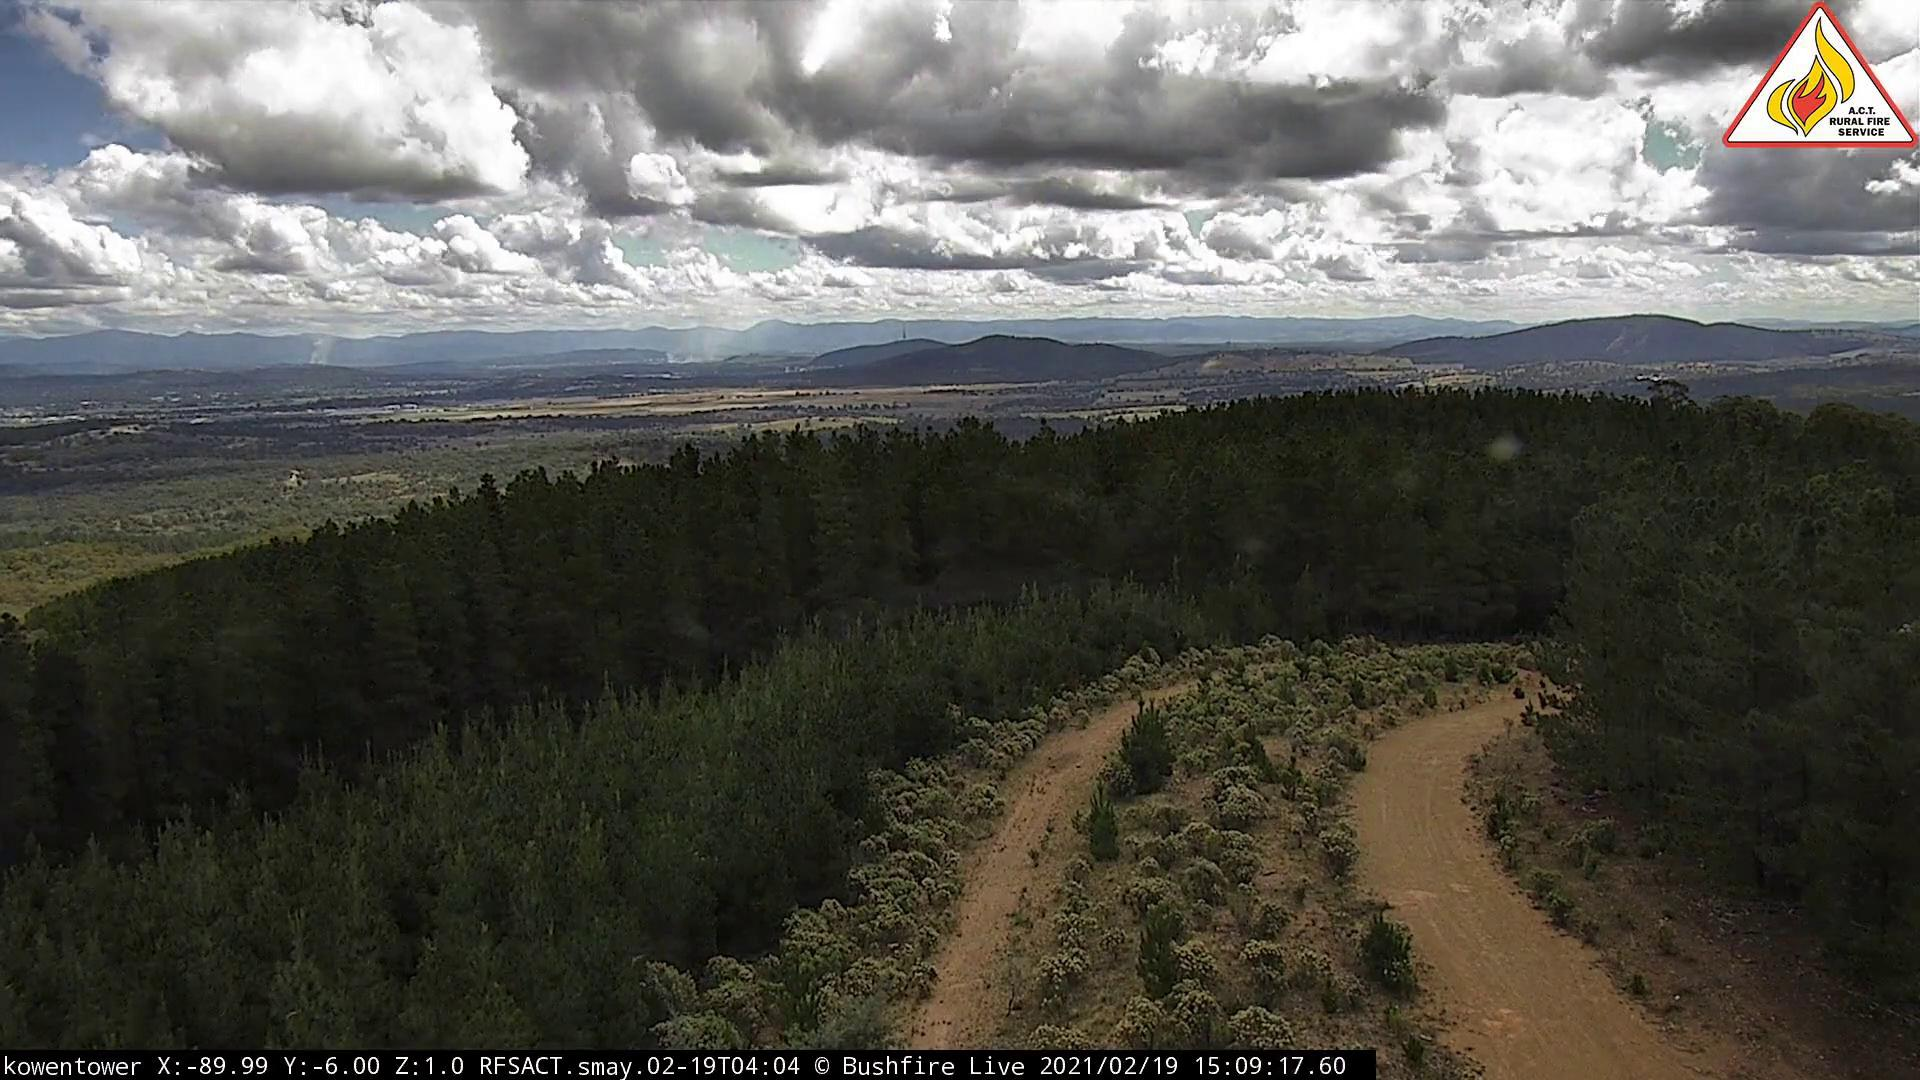Smoke: (662, 306, 752, 369), (303, 313, 388, 371)
